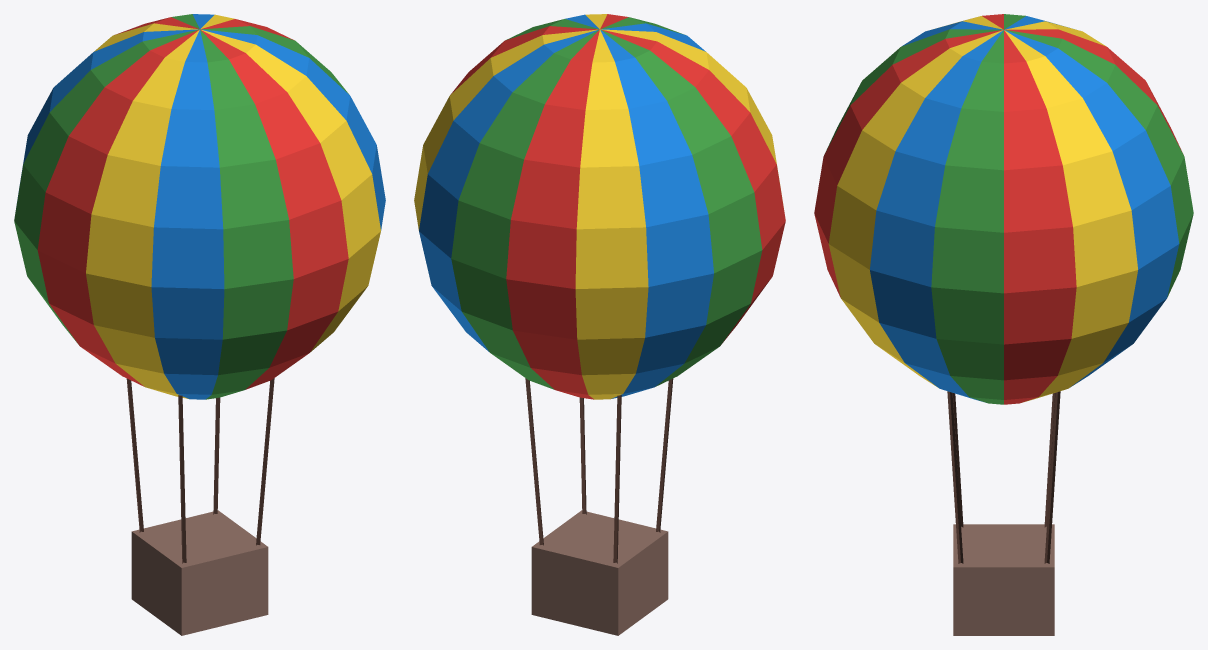
File: luftballong.glb
3 renders of one model, left to right at view 1: azimuth 30°, elevation 25°; view 2: azimuth 150°, elevation 25°; view 3: azimuth 270°, elevation 25°, orthographic.
Parts seen in each view (by area): view 1: luftballong; view 2: luftballong; view 3: luftballong.
Boxes of the visible parts, left/top/right/bottom form: luftballong: left=14, top=14, right=385, bottom=635; luftballong: left=414, top=14, right=785, bottom=635; luftballong: left=814, top=14, right=1193, bottom=635.
Size of the model in its own units: 1.5 by 2.55 by 1.5.
